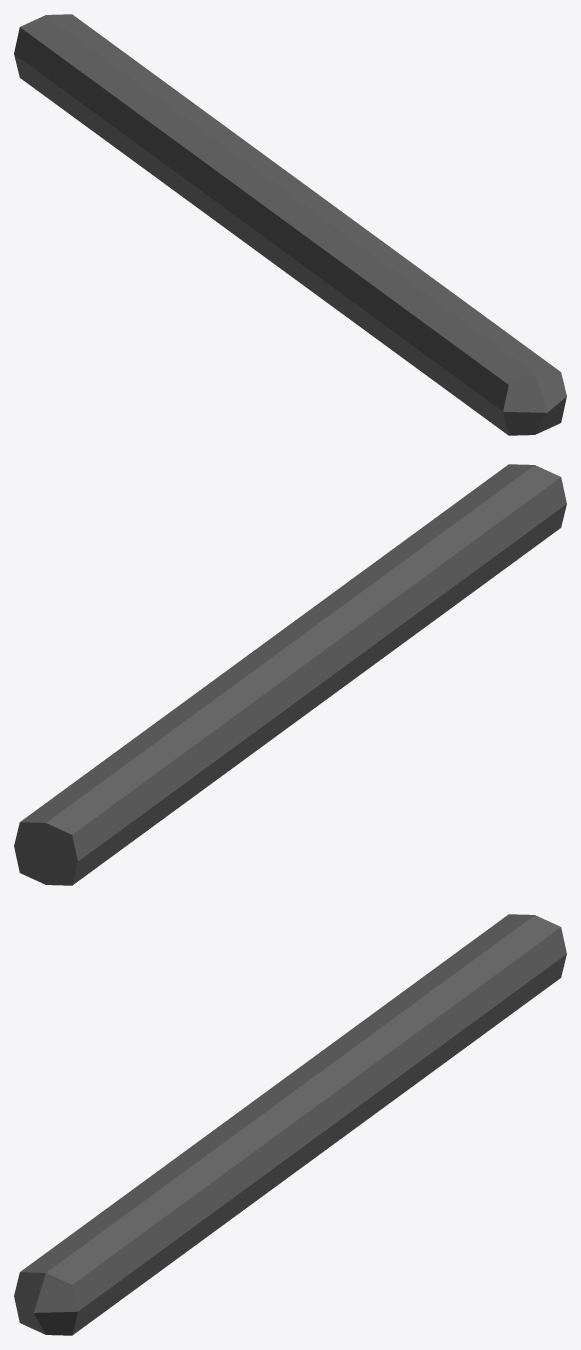
Rendered from Props_Bedroom_Lever.fbx.
The picture shows the model from 3 angles, top to bottom: view 1: azimuth 30°, elevation 25°; view 2: azimuth 150°, elevation 25°; view 3: azimuth 330°, elevation 25°; orthographic projection.
Parts seen in each view (by area): view 1: Cube.013; view 2: Cube.013; view 3: Cube.013.
Boxes of the visible parts, x1=… form: Cube.013: x1=14, y1=14, x2=566, y2=435; Cube.013: x1=14, y1=464, x2=566, y2=885; Cube.013: x1=14, y1=914, x2=566, y2=1335.
Bounding box in the file's own units: 38.23 × 35.42 × 519.
